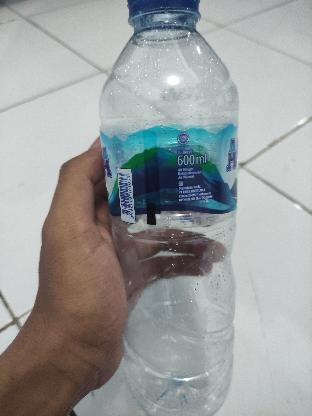Plastic Bottle: (94, 0, 258, 416)
